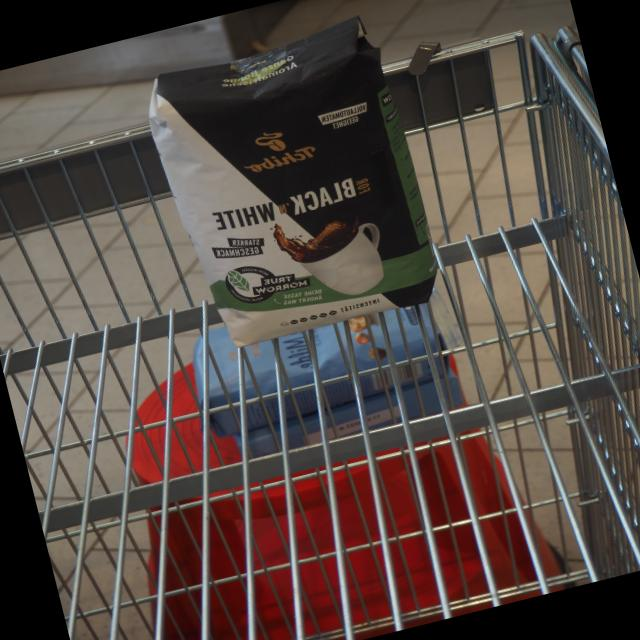BW Bohne: (126, 2, 453, 364)
